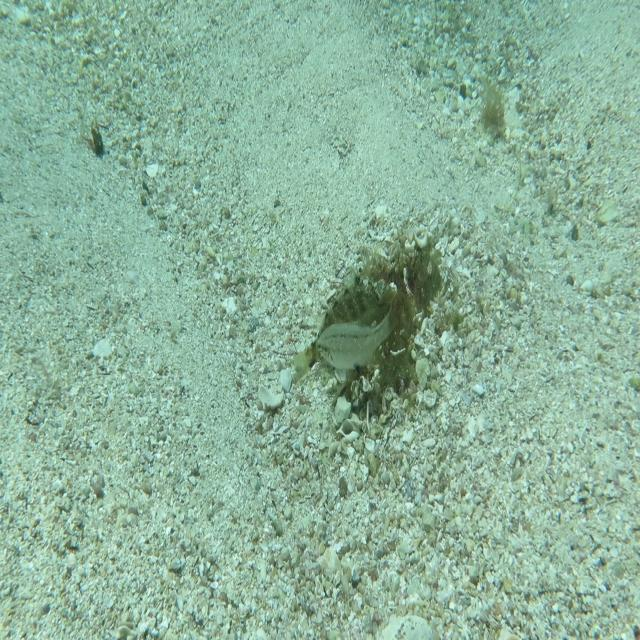LF: (290, 266, 402, 379)
female: (314, 291, 402, 373)
nest: (338, 226, 454, 420)
